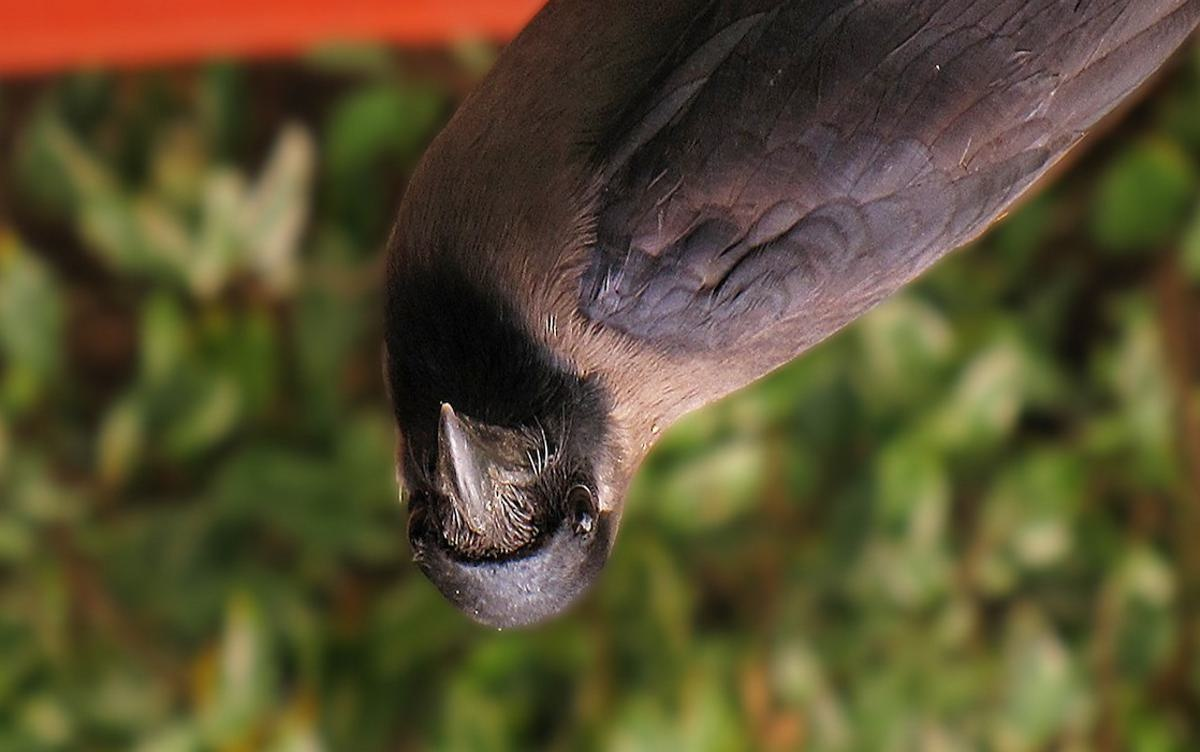crow: (348, 1, 1174, 631)
